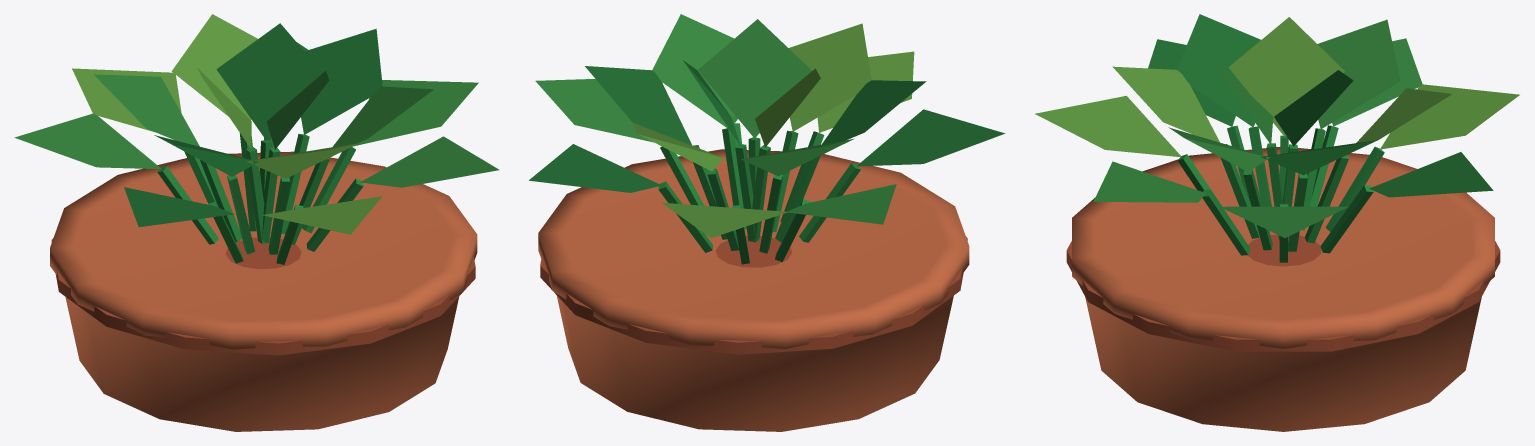
File: greenhouse-hide.glb
The picture shows the model from 3 angles, left to right: view 1: azimuth 30°, elevation 25°; view 2: azimuth 150°, elevation 25°; view 3: azimuth 270°, elevation 25°; orthographic projection.
Parts seen in each view (by area): view 1: greenhouse-hide; view 2: greenhouse-hide; view 3: greenhouse-hide.
Boxes of the visible parts, bbox=[...] form: greenhouse-hide: bbox=[14, 14, 499, 431]; greenhouse-hide: bbox=[529, 14, 1005, 431]; greenhouse-hide: bbox=[1035, 14, 1519, 431].
Size of the model in its own units: 1.42 by 1.01 by 1.46.
